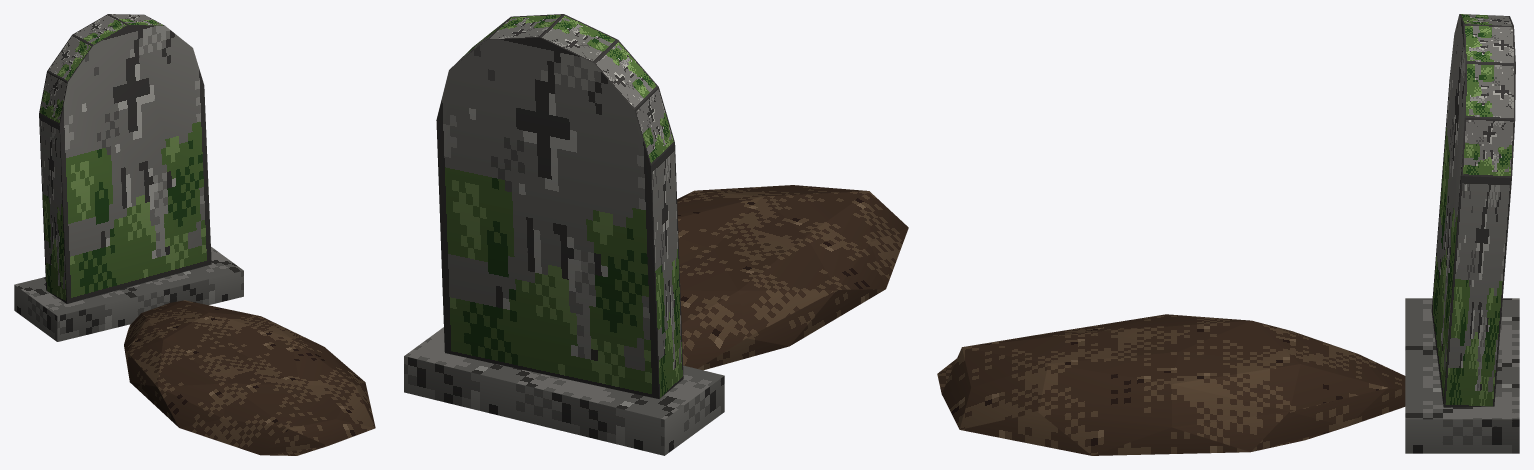
Rendered from gravestone_a.glb.
3 views of the same model, side by side, from view 1: azimuth 30°, elevation 25°; view 2: azimuth 150°, elevation 25°; view 3: azimuth 270°, elevation 25° (orthographic). The views are drawn at different scales.
Parts seen in each view (by area): view 1: gravestone_a; view 2: gravestone_a; view 3: gravestone_a.
Part boxes in pixels (bbox=[...]): gravestone_a: bbox=[14, 14, 375, 455]; gravestone_a: bbox=[404, 14, 908, 455]; gravestone_a: bbox=[937, 14, 1519, 455].
Size of the model in its own units: 0.9164 by 1.28 by 1.83.
Materials: 3 (3 with a texture image).
